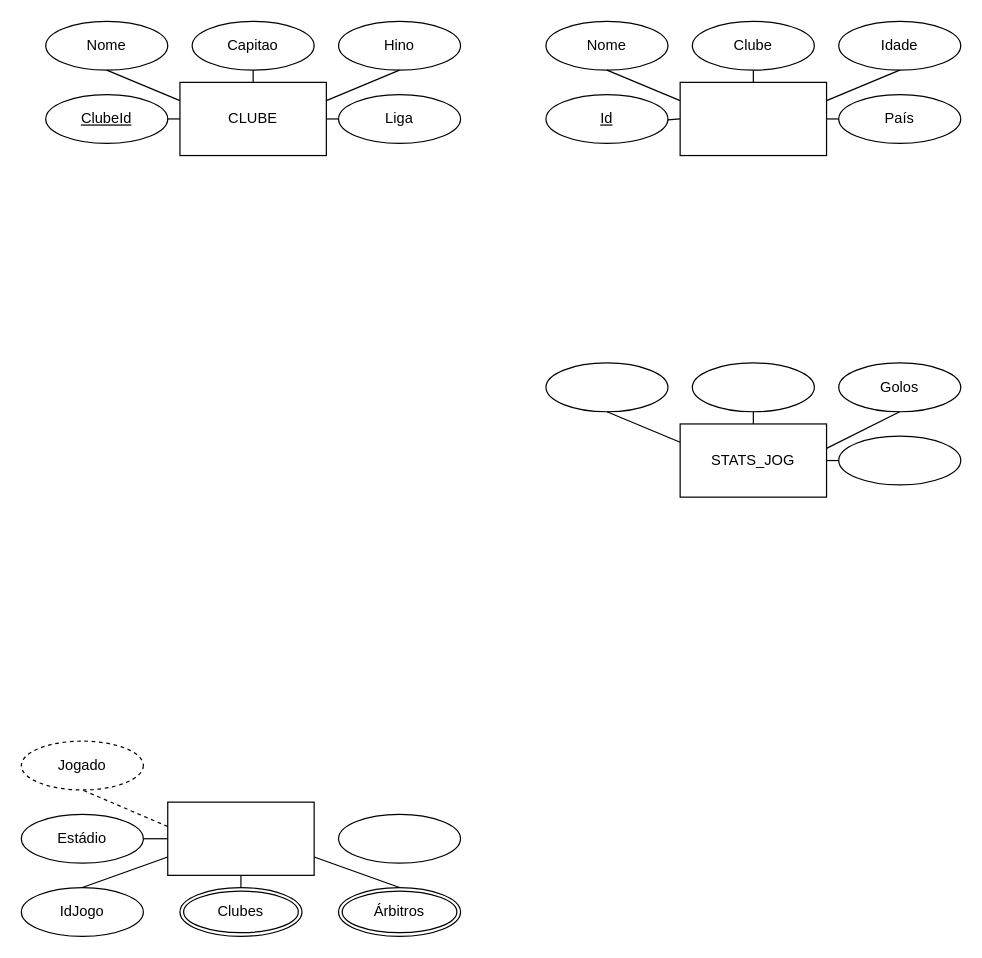
Image size: 982x958. Some labels were removed from this diagram. The centre of each missing label's shape, as x and y in pixels:
Assistências: the point at 752,387
CAmarelos: the point at 899,460
Cvermelhos: the point at 606,387
Data: the point at 399,838
JOGADOR: the point at 753,118
JOGO: the point at 240,838
